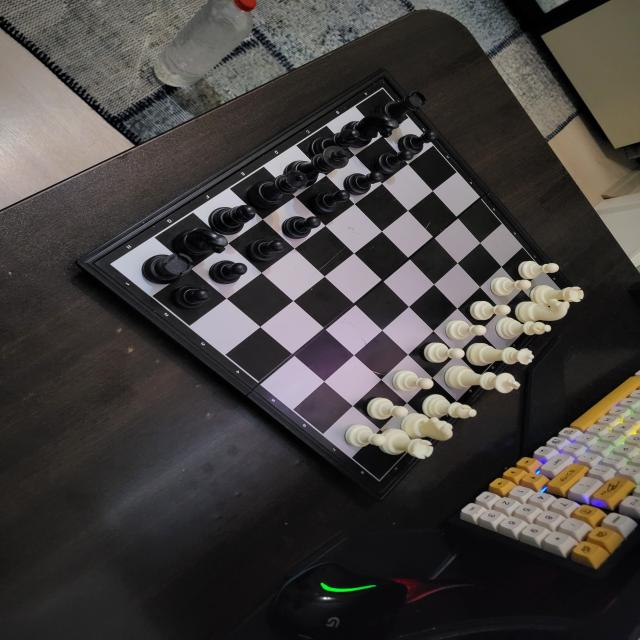black-bishop: (209, 204, 258, 233), (312, 128, 362, 152)
black-king: (291, 146, 350, 182)
black-knight: (346, 112, 398, 144), (178, 227, 228, 256)
black-pawn: (281, 214, 322, 242), (343, 170, 384, 197), (312, 189, 351, 217), (371, 150, 414, 174), (246, 238, 286, 263), (209, 260, 248, 285), (173, 284, 212, 308), (399, 130, 438, 154)
black-queen: (247, 169, 309, 209)
black-rook: (378, 90, 426, 124), (143, 252, 194, 282)
chess-board: (109, 84, 574, 485)
